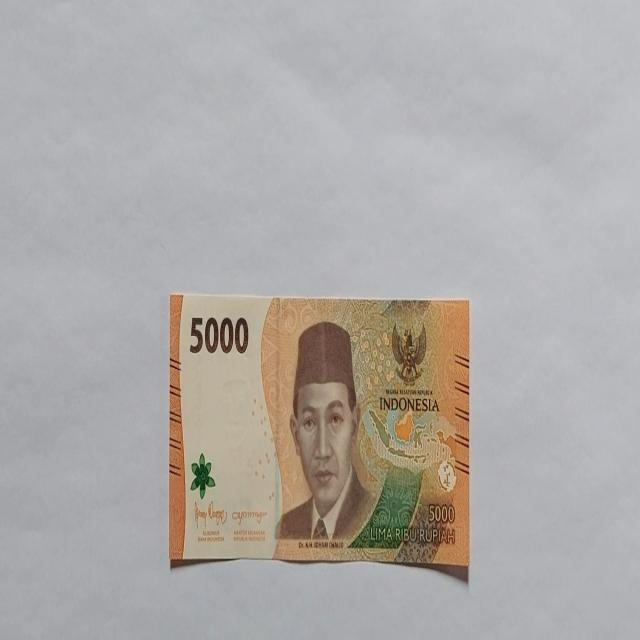lima ribu rupiah: (168, 292, 470, 574), (274, 319, 376, 546)
